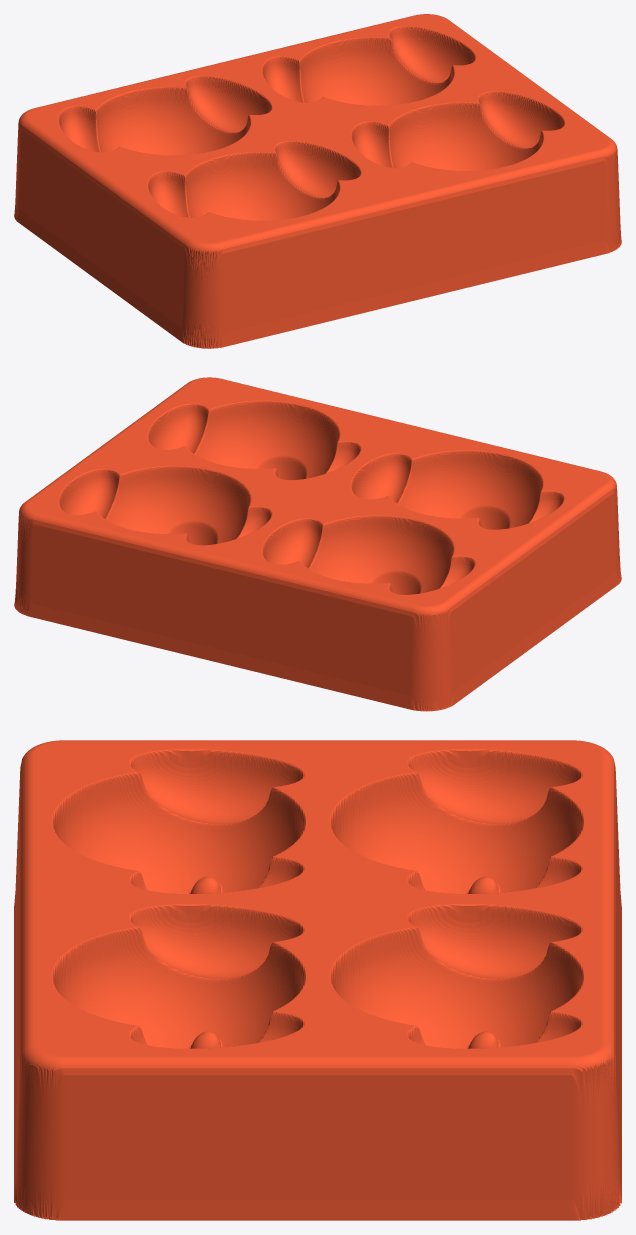
The model's file is mold.glb.
The picture shows the model from 3 angles, top to bottom: view 1: azimuth 30°, elevation 25°; view 2: azimuth 150°, elevation 25°; view 3: azimuth 270°, elevation 25°; orthographic projection. The views are drawn at different scales.
Visible parts, largest first — view 1: geometry_0; view 2: geometry_0; view 3: geometry_0.
Part boxes in pixels (left/top/right/bottom): geometry_0: left=14, top=14, right=621, bottom=348; geometry_0: left=14, top=377, right=621, bottom=711; geometry_0: left=14, top=740, right=621, bottom=1220.
Size of the model in its own units: 0.1414 by 0.031 by 0.1095.
